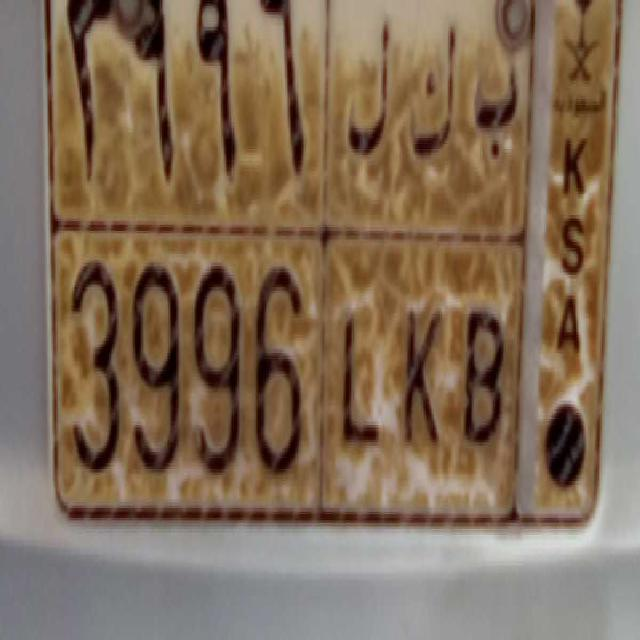license_plate: (53, 214, 519, 523)
